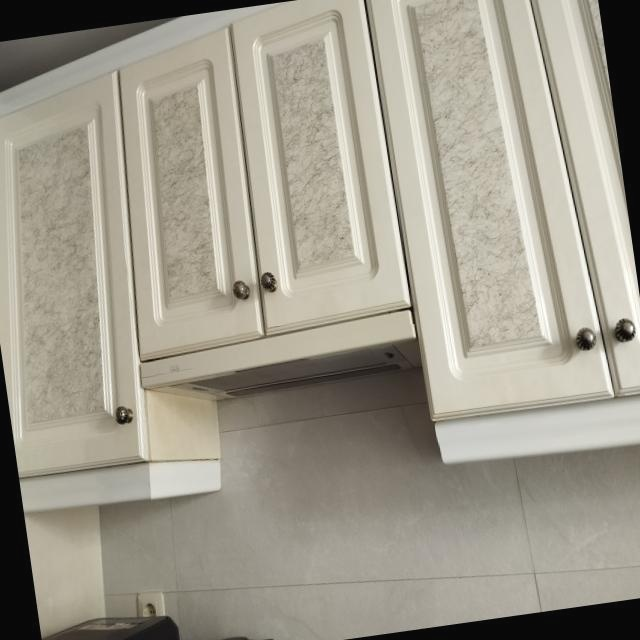cabinet: (370, 0, 640, 466), (116, 0, 412, 362), (0, 76, 221, 515)
